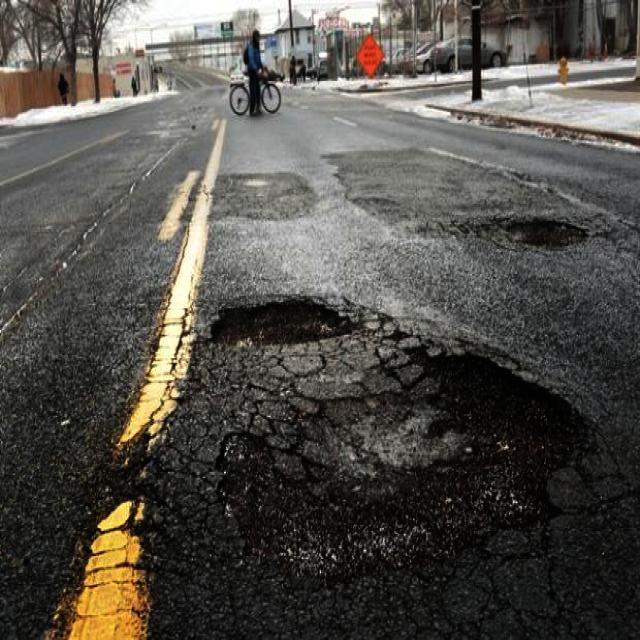Pothole: (207, 331, 596, 582), (206, 295, 356, 352), (464, 208, 590, 258)
